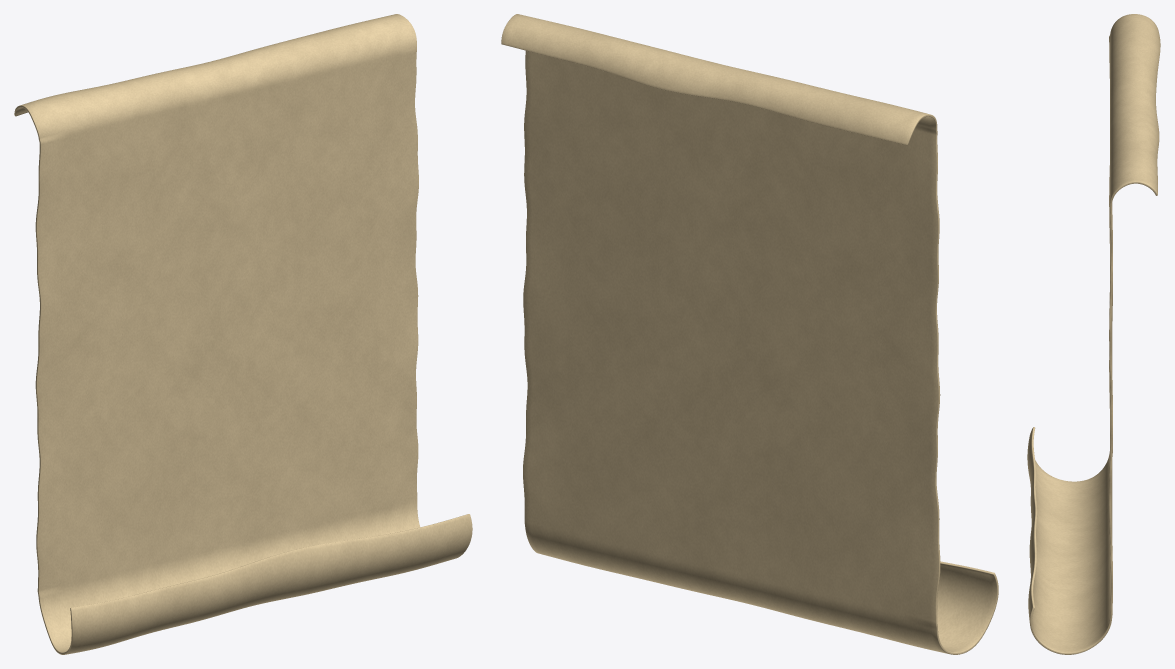
Rendered from Fantasy_Parchment_Scroll_Textured_v02.glb.
3 renders of one model, left to right at view 1: azimuth 30°, elevation 25°; view 2: azimuth 150°, elevation 25°; view 3: azimuth 270°, elevation 25°, orthographic. The views are drawn at different scales.
Visible parts, largest first — view 1: Fantasy_Parchment_Scroll; view 2: Fantasy_Parchment_Scroll; view 3: Fantasy_Parchment_Scroll.
Part boxes in pixels (x1,y1,x2,y2): Fantasy_Parchment_Scroll: [14, 14, 472, 654]; Fantasy_Parchment_Scroll: [501, 14, 998, 654]; Fantasy_Parchment_Scroll: [1027, 14, 1160, 654].
Bounding box in the file's own units: 4.28 × 5.29 × 1.35.
Materials: 1 (1 with a texture image).
